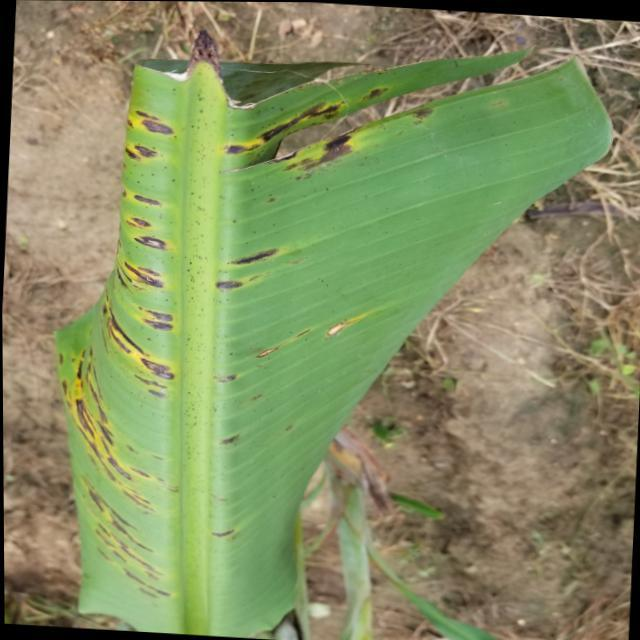Early_rust: (0, 40, 410, 640)
